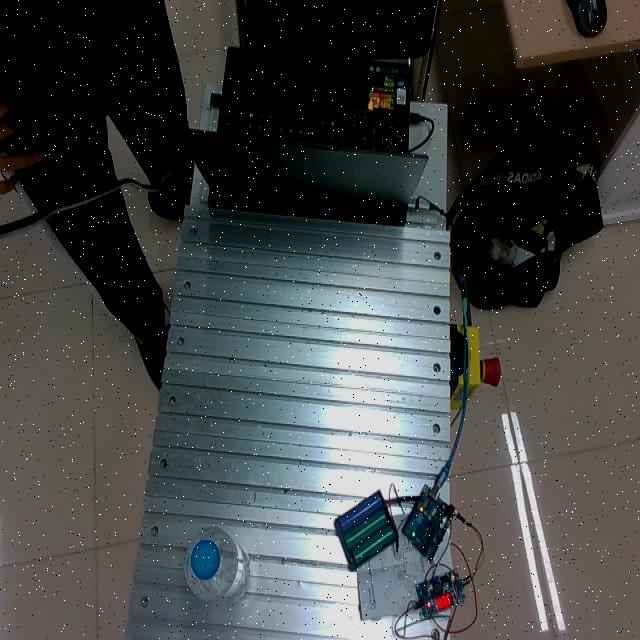lavie: (183, 524, 251, 604)
